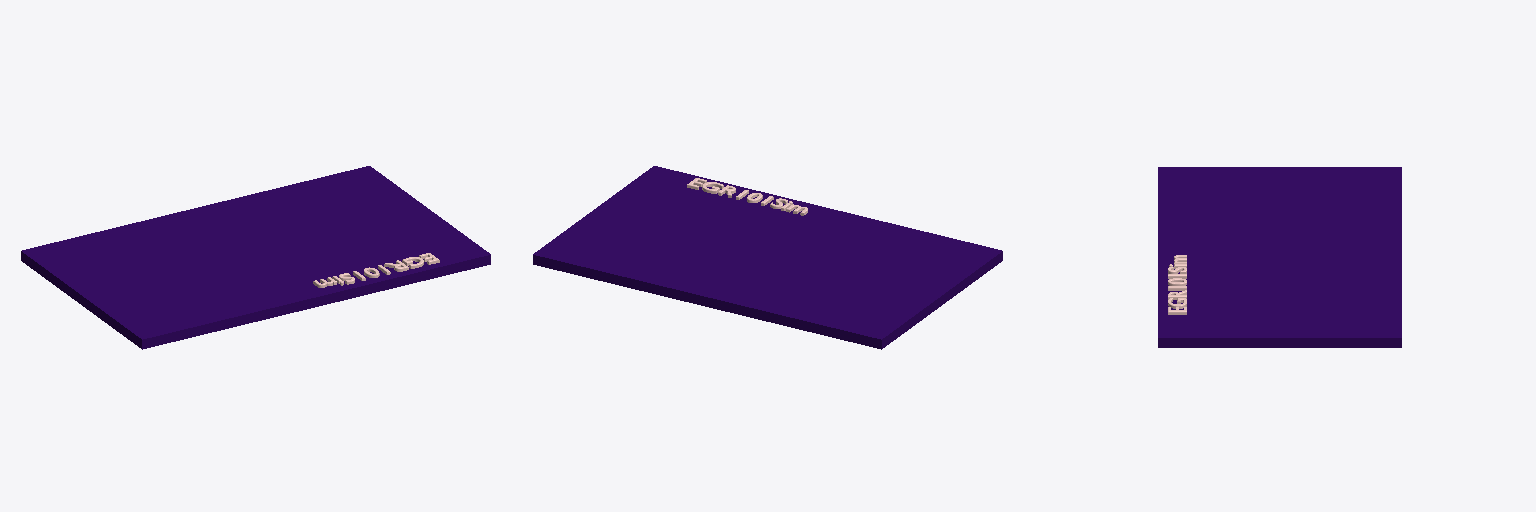
Rendered from egr101_board.obj.
The picture shows the model from 3 angles: view 1: azimuth 30°, elevation 25°; view 2: azimuth 150°, elevation 25°; view 3: azimuth 270°, elevation 25°; orthographic projection.
Parts seen in each view (by area): view 1: Cube, Text; view 2: Cube, Text; view 3: Cube, Text.
Part boxes in pixels (x1,y1,x2,y2): Cube: (21,166,490,349); Text: (313,253,439,287); Cube: (533,166,1002,349); Text: (687,178,807,215); Cube: (1158,167,1401,347); Text: (1168,255,1186,314).
Size of the model in its own units: 8.04 by 0.2871 by 4.85.